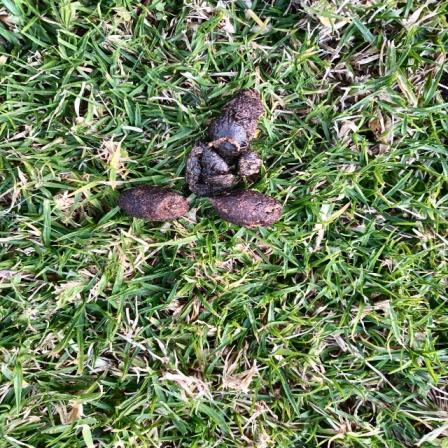dog-poop: (122, 76, 297, 230)
